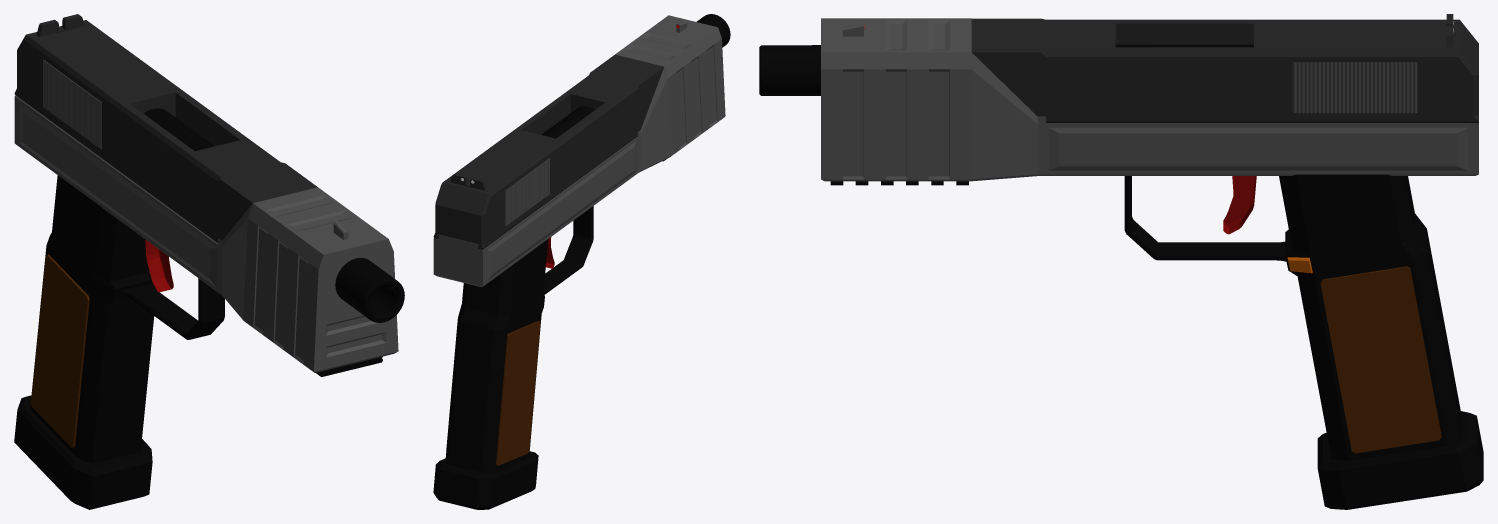
File: gun.gltf
3 views of the same model, side by side, from view 1: azimuth 30°, elevation 25°; view 2: azimuth 150°, elevation 25°; view 3: azimuth 270°, elevation 25° (orthographic). The views are drawn at different scales.
Visible parts, largest first — view 1: Gun, Frame, Trigger; view 2: Gun, Frame; view 3: Gun, Frame, Trigger.
Part boxes in pixels (bbox=[...]): Gun: bbox=[14, 95, 404, 509]; Frame: bbox=[14, 14, 317, 243]; Trigger: bbox=[145, 239, 173, 292]; Gun: bbox=[433, 14, 730, 509]; Frame: bbox=[433, 54, 663, 249]; Gun: bbox=[759, 18, 1483, 509]; Frame: bbox=[971, 14, 1478, 123]; Trigger: bbox=[1223, 176, 1256, 234].
Size of the model in its own units: 0.0376 by 0.1879 by 0.262.
